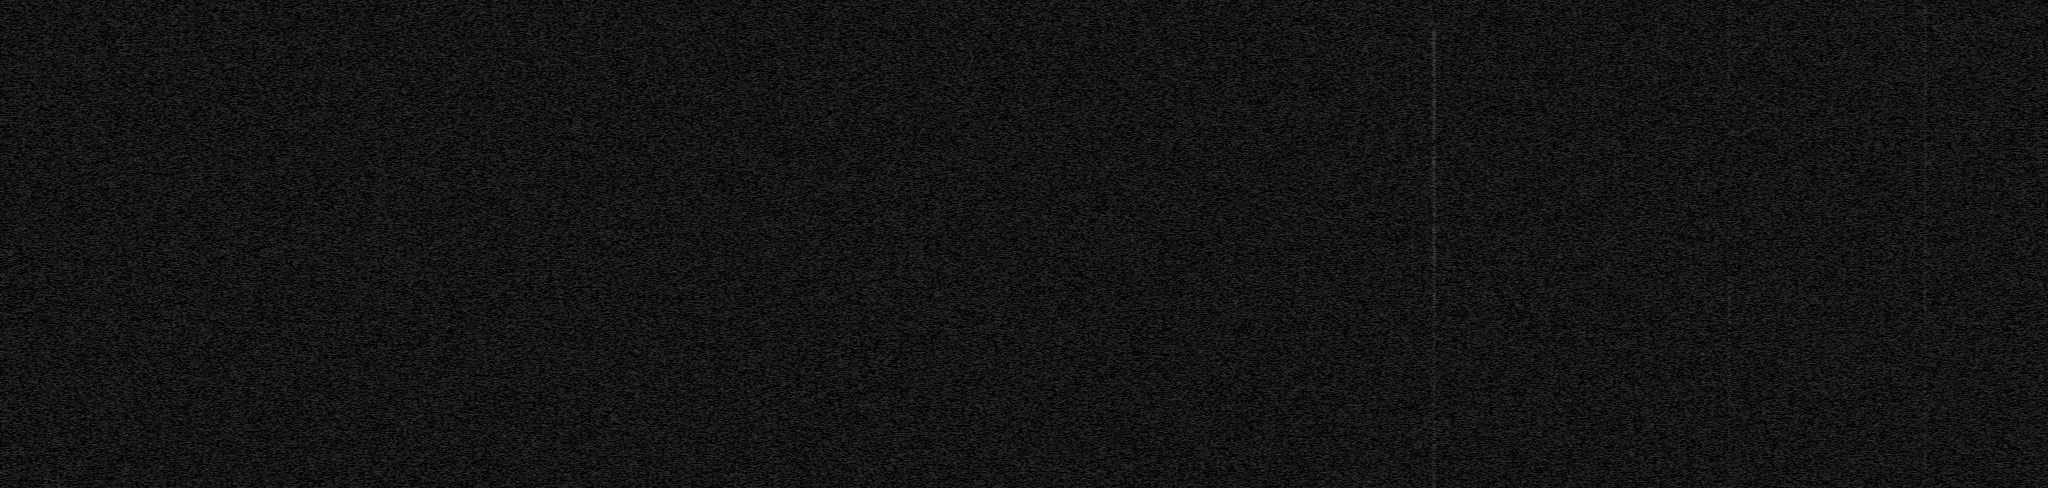wv_lsb: (1428, 30, 1437, 339), (1432, 402, 1437, 488), (1727, 308, 1732, 354), (1725, 14, 1731, 48), (1432, 341, 1437, 374), (1727, 391, 1731, 425), (1432, 376, 1437, 401), (1727, 70, 1731, 90), (1727, 274, 1732, 288), (1727, 50, 1731, 67), (1727, 478, 1732, 488), (1727, 217, 1731, 224), (1727, 367, 1732, 372), (1727, 355, 1732, 360), (1727, 301, 1732, 307), (1727, 296, 1732, 301), (1727, 290, 1732, 295), (1725, 3, 1731, 8), (1728, 258, 1731, 267), (1727, 468, 1731, 474), (1727, 385, 1731, 390), (1727, 378, 1731, 384), (1727, 373, 1731, 378), (1727, 361, 1732, 365), (1727, 462, 1731, 467), (1727, 267, 1731, 273), (1727, 455, 1731, 461), (1725, 9, 1731, 13), (1727, 450, 1731, 455), (1727, 444, 1731, 449), (1727, 438, 1731, 444), (1727, 432, 1731, 437), (1727, 425, 1731, 431), (1728, 253, 1731, 258), (1728, 244, 1731, 249), (1728, 235, 1731, 240), (1728, 228, 1731, 231)
wv_usb: (1923, 114, 1930, 322), (1923, 378, 1930, 485), (1923, 3, 1930, 110), (1923, 331, 1928, 369), (1923, 324, 1929, 330), (1923, 371, 1927, 378)
